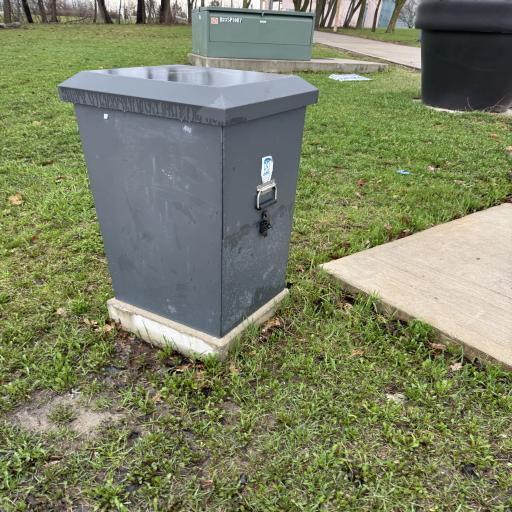Electrical Box: (56, 60, 320, 361), (185, 6, 334, 62)
